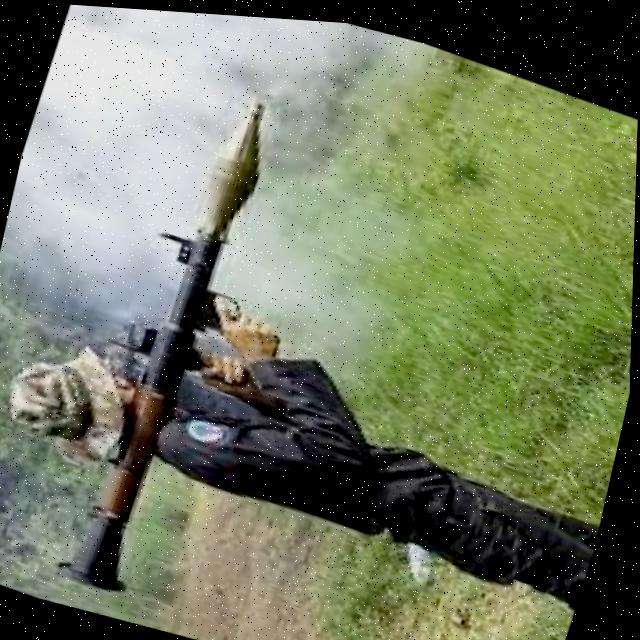rocket: (56, 62, 281, 611)
